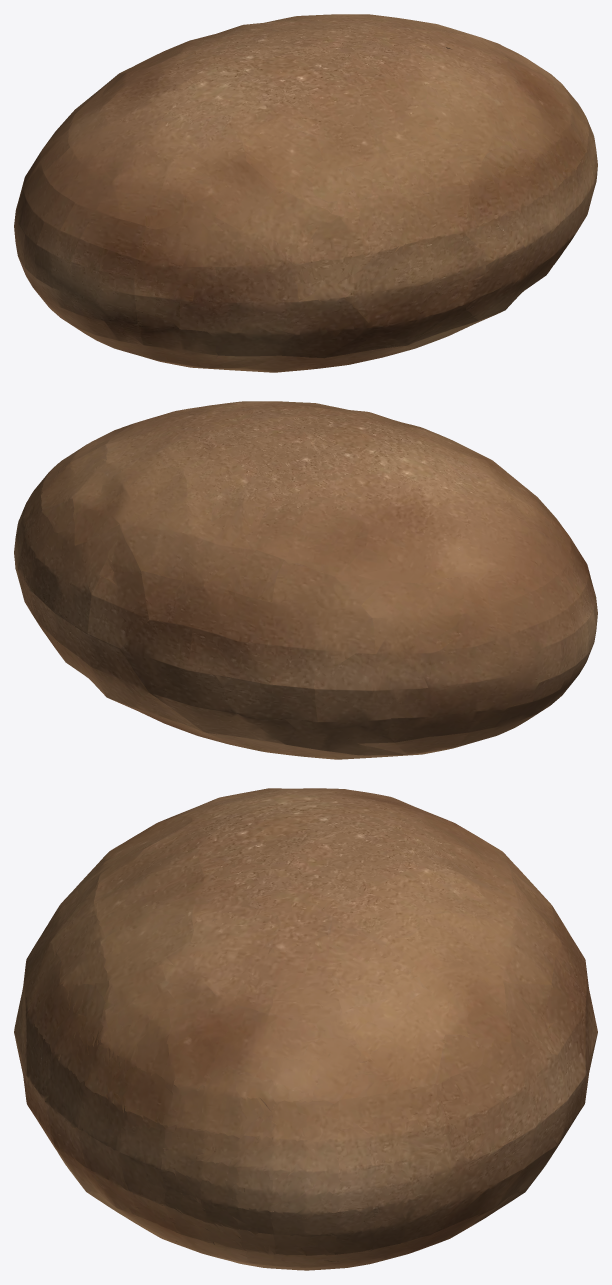
File: stone.glb
The picture shows the model from 3 angles, top to bottom: view 1: azimuth 30°, elevation 25°; view 2: azimuth 150°, elevation 25°; view 3: azimuth 270°, elevation 25°; orthographic projection. The views are drawn at different scales.
Bounding box in the file's own units: 1.9 × 0.9362 × 1.43.
Materials: 1 (1 with a texture image).
